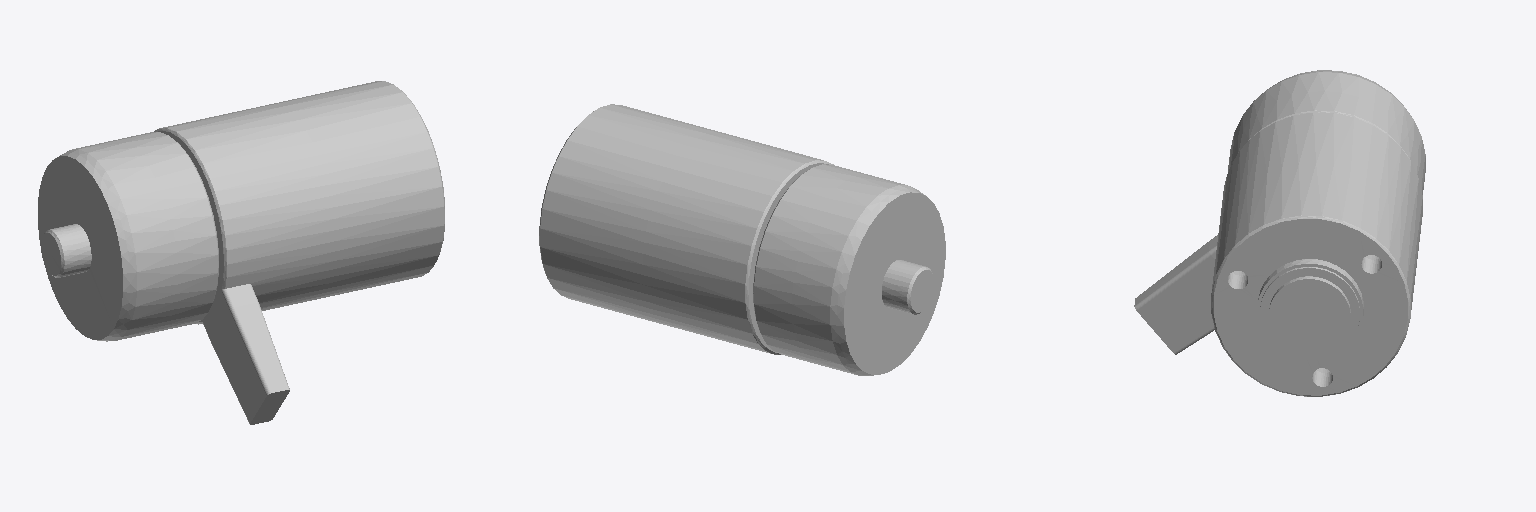
Rendered from motor_knee_right_front.obj.
3 renders of one model, left to right at view 1: azimuth 30°, elevation 25°; view 2: azimuth 150°, elevation 25°; view 3: azimuth 270°, elevation 25°, orthographic.
Parts seen in each view (by area): view 1: Body1.164_Body1.073; view 2: Body1.164_Body1.073; view 3: Body1.164_Body1.073.
Part boxes in pixels (x1,y1,x2,y2): Body1.164_Body1.073: (38,81,444,424); Body1.164_Body1.073: (539,104,945,375); Body1.164_Body1.073: (1134,70,1425,396).
Size of the model in its own units: 0.0507 by 0.0316 by 0.0354.